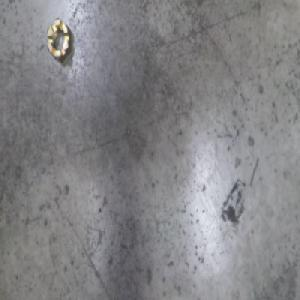Nut: (45, 17, 72, 65)
